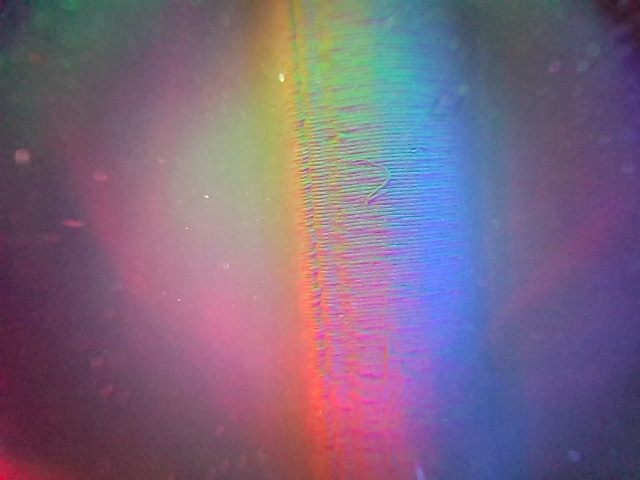contact: (280, 3, 498, 477)
